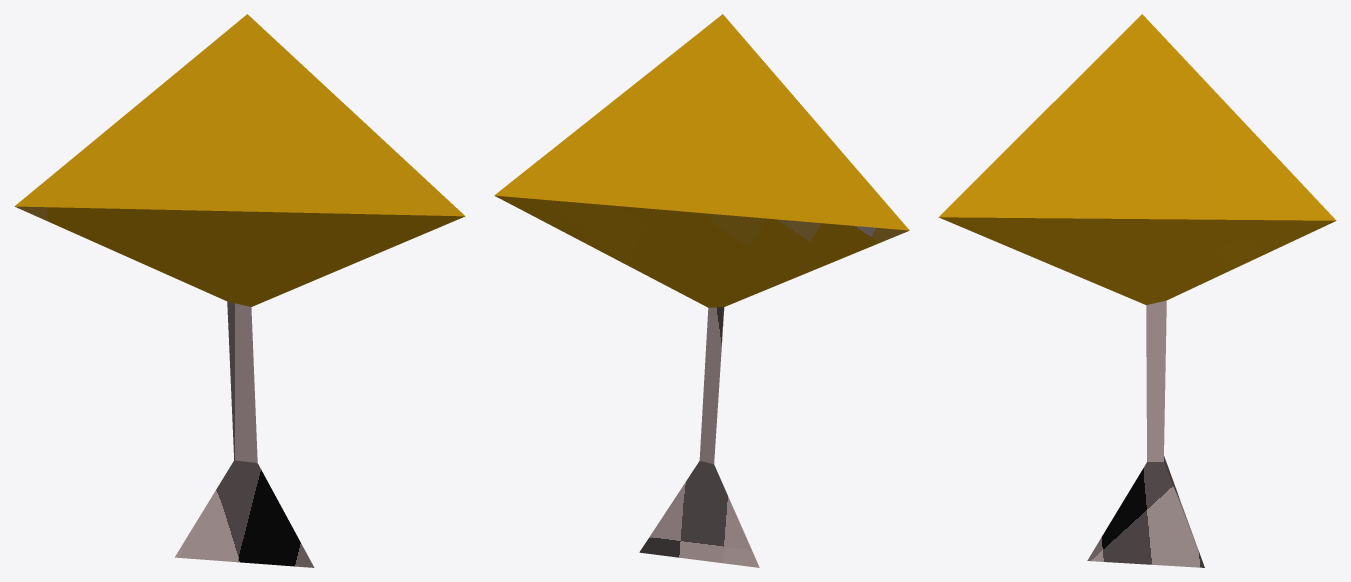
Rendered from Birch_tree_LOW_POLY_final.fbx.
3 views of the same model, side by side, from view 1: azimuth 30°, elevation 25°; view 2: azimuth 150°, elevation 25°; view 3: azimuth 270°, elevation 25° (orthographic). The views are drawn at different scales.
Parts seen in each view (by area): view 1: Cube; view 2: Cube; view 3: Cube.
Part boxes in pixels (<box>): Cube: <box>14,14,465,567</box>; Cube: <box>494,14,909,567</box>; Cube: <box>938,14,1336,567</box>.
Size of the model in its own units: 4748 by 4660 by 6951.
Materials: 1 (1 with a texture image).
